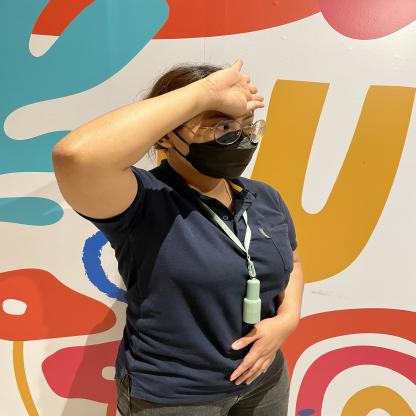Sick: (94, 50, 284, 141)
